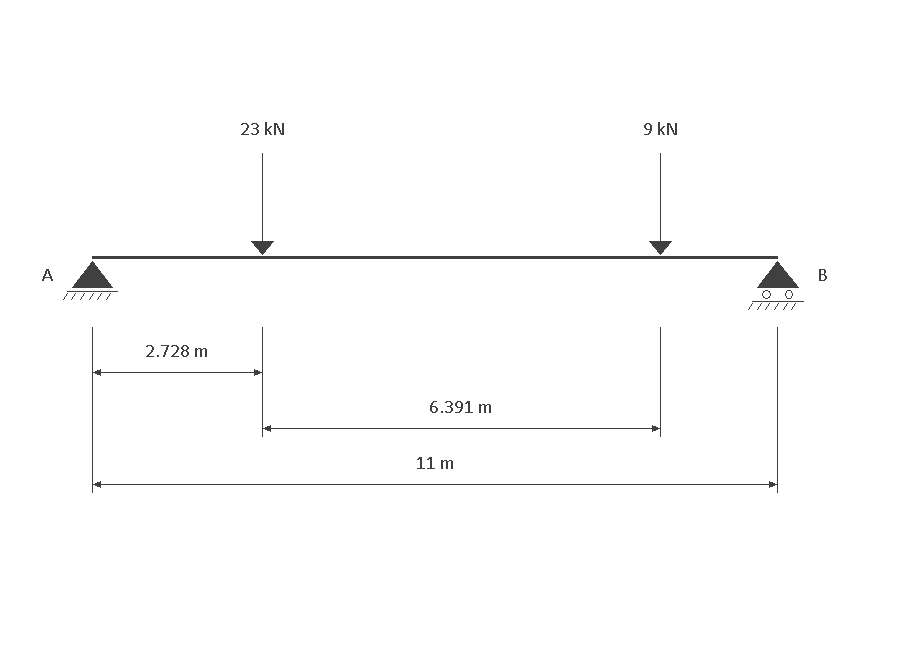pin_support: (63, 261, 118, 300)
point_load: (251, 153, 274, 255), (649, 153, 672, 255)
roller_support: (748, 261, 804, 310)
